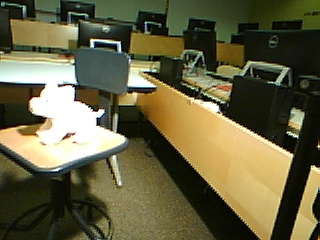piggy: (26, 79, 106, 148)
